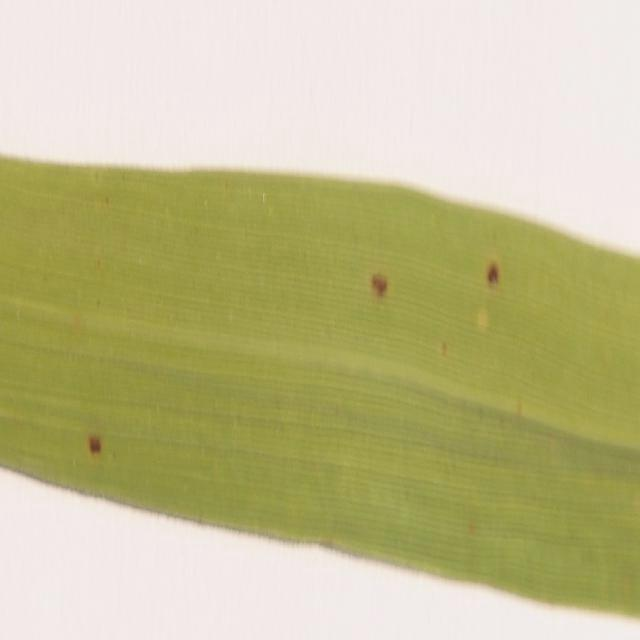Brownspot: (371, 273, 387, 296), (486, 262, 499, 286), (70, 313, 82, 334), (88, 435, 101, 454), (623, 574, 631, 597), (633, 495, 639, 513), (468, 520, 475, 534), (516, 400, 522, 416), (441, 342, 447, 356), (95, 258, 101, 270), (104, 195, 109, 205)
